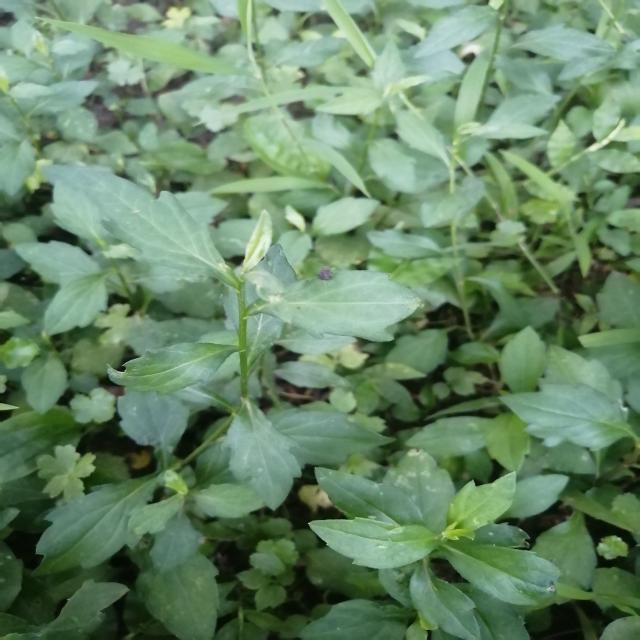Indian aster: (57, 191, 431, 501), (311, 452, 585, 635)
